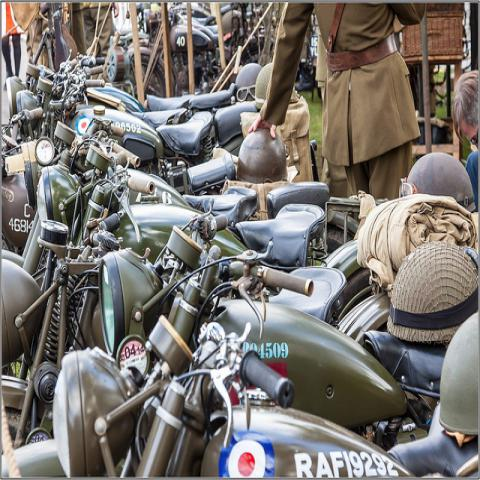motorcycle: (55, 256, 448, 476), (0, 196, 327, 450), (95, 151, 376, 348), (165, 309, 478, 479), (0, 121, 329, 274), (0, 64, 260, 256), (79, 0, 264, 116), (129, 27, 217, 101), (16, 52, 81, 136), (85, 89, 189, 129), (192, 15, 220, 49)
